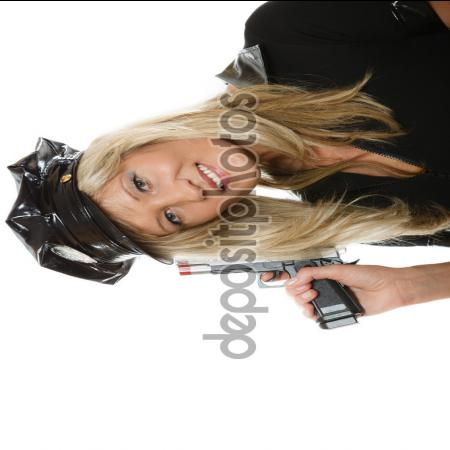Pistol: (162, 236, 370, 324)
